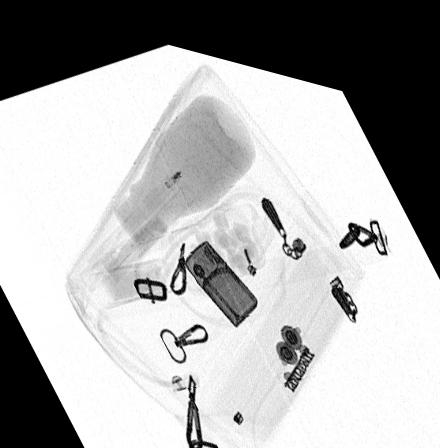Lighter: (183, 226, 258, 315)
